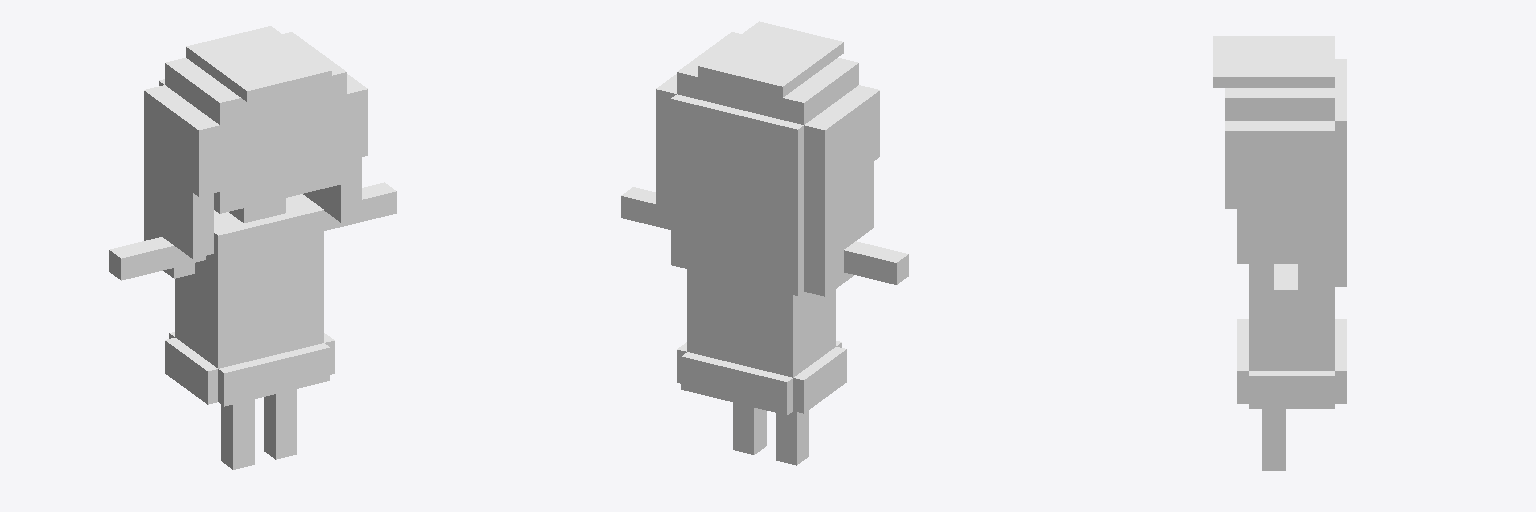
The model's file is lolita.obj.
3 renders of one model, left to right at view 1: azimuth 30°, elevation 25°; view 2: azimuth 150°, elevation 25°; view 3: azimuth 270°, elevation 25°, orthographic.
Parts seen in each view (by area): view 1: object 1; view 2: object 1; view 3: object 1.
Boxes of the visible parts, x1=… form: object 1: x1=109, y1=26, x2=396, y2=469; object 1: x1=621, y1=21, x2=908, y2=465; object 1: x1=1213, y1=36, x2=1346, y2=470.
Bounding box in the file's own units: 2.6 × 3.6 × 1.1.